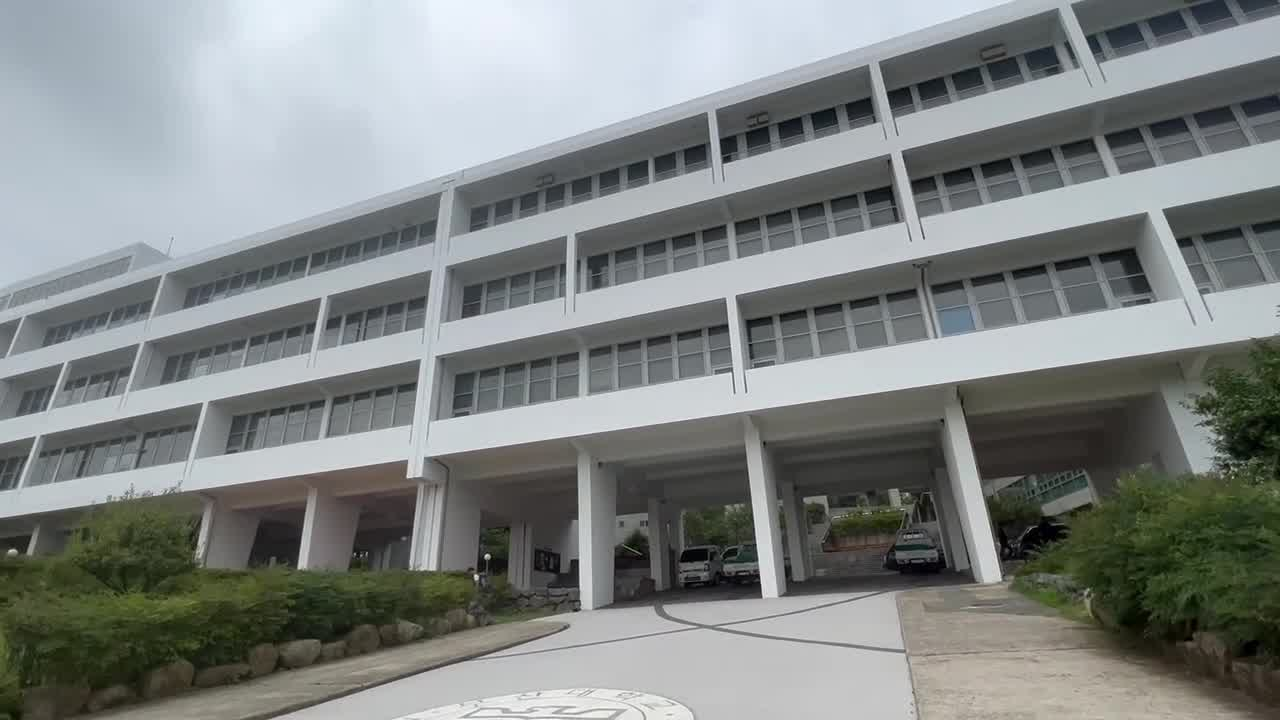medium: (69, 69, 1192, 403)
